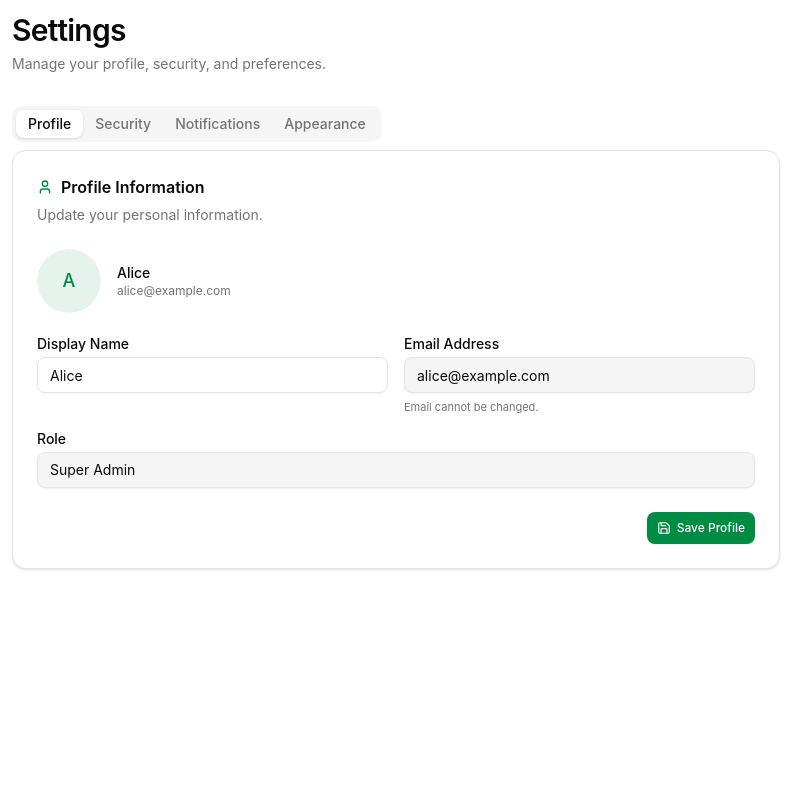
Test: Settings page › starts 2FA enrollment and confirms it with an authentication code
Click the tab "Security": coordinates (123, 124) left=83, top=110, right=163, bottom=138
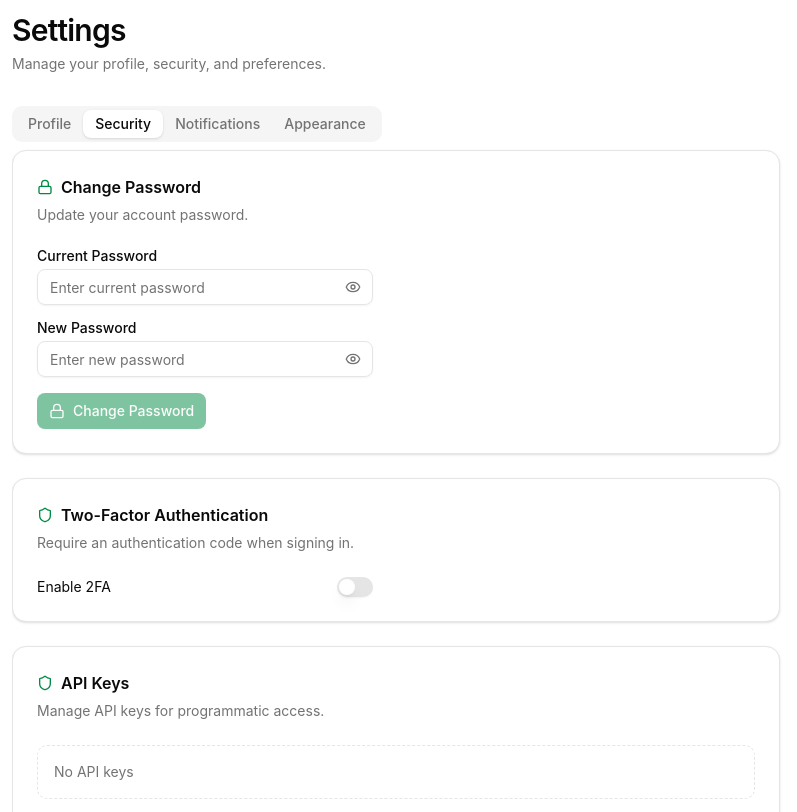
Expected: the text "two-factor authentication is enabled" is not shown
There's exactly one switch on the Security tab (Enable 2FA).
Click the switch: coordinates (355, 587) left=337, top=577, right=373, bottom=597
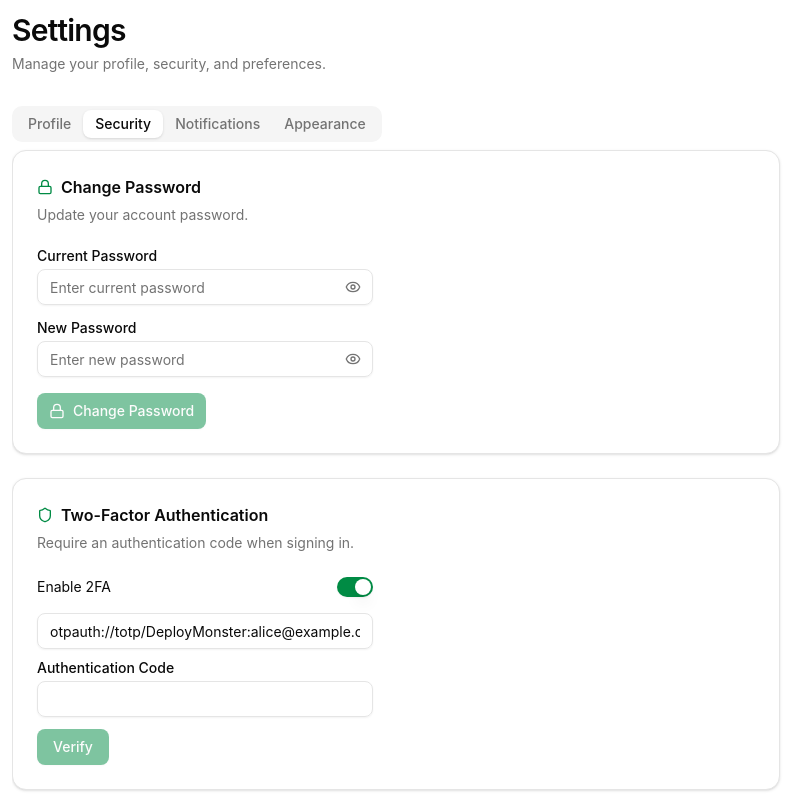
Expected: the field showing "otpauth://totp" is shown, left=37, top=613, right=373, bottom=649
In the field labelled "Authentication Code": coordinates (205, 699) left=37, top=681, right=373, bottom=717, type "123456"
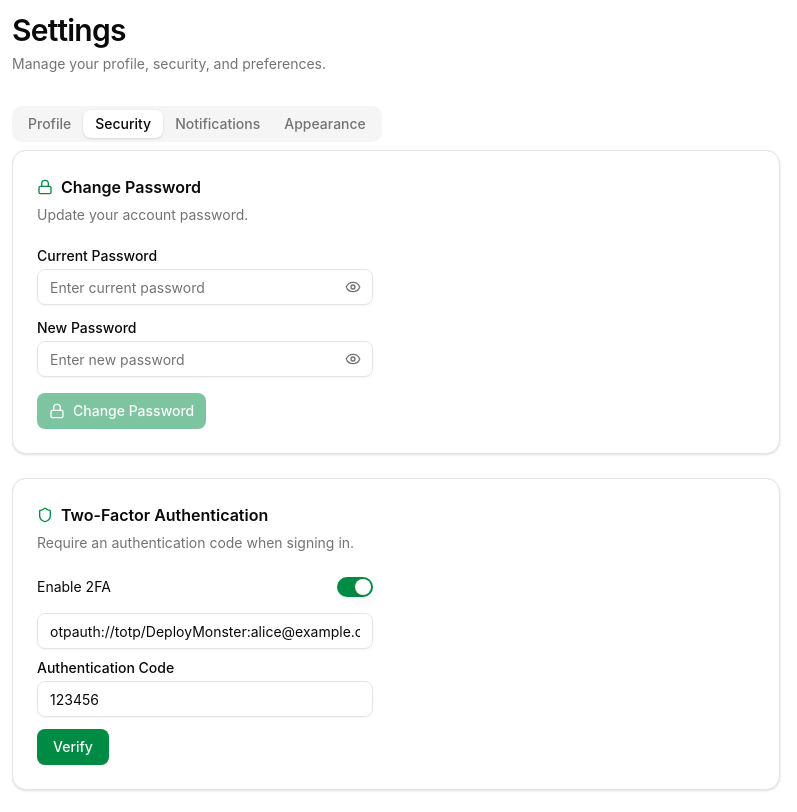
Click the button "Verify": coordinates (73, 747) left=37, top=729, right=109, bottom=765
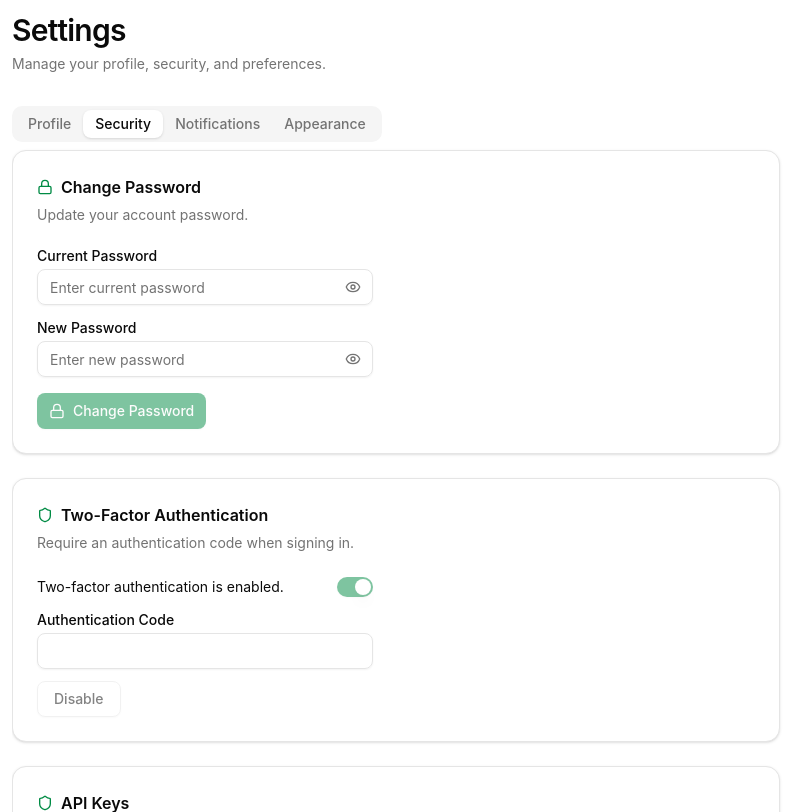
Expected: the text "Two-factor authentication is enabled." is shown, left=37, top=577, right=284, bottom=597
